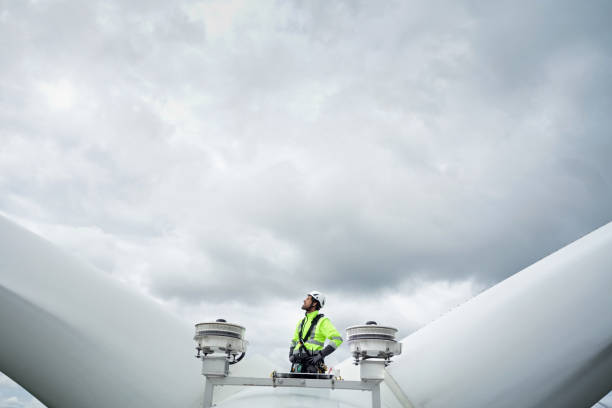without mask: (298, 290, 325, 315)
